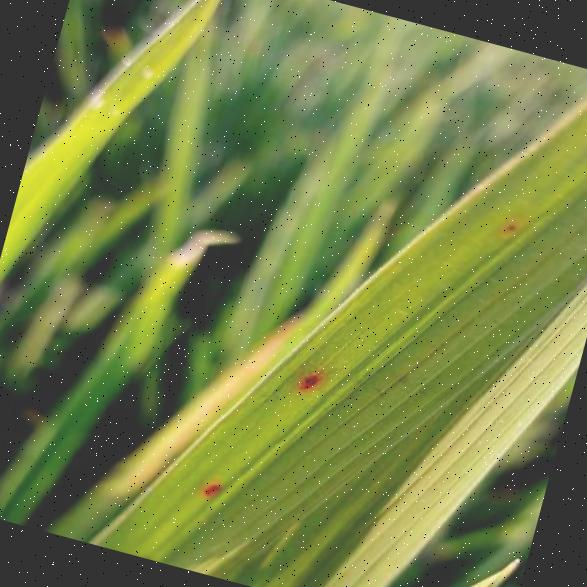Brown_Spot: (286, 349, 336, 402), (484, 200, 528, 244), (192, 470, 238, 506)
